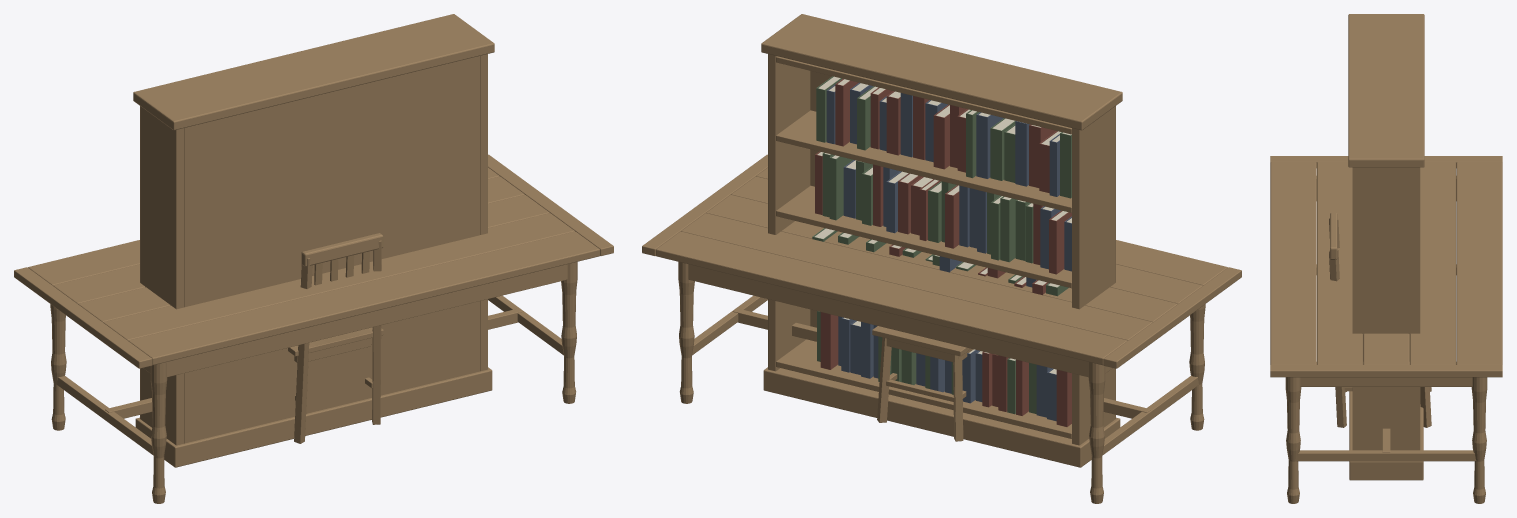
File: reading_furniture.glb
3 views of the same model, side by side, from view 1: azimuth 30°, elevation 25°; view 2: azimuth 150°, elevation 25°; view 3: azimuth 270°, elevation 25° (orthographic). The views are drawn at different scales.
Visible parts, largest first — view 1: Bookcase_Oak, ReadingTable_Oak, ReadingChair_Oak; view 2: Bookcase_Oak, ReadingTable_Oak, Bookcase_RedCloth, Bookcase_BlueCloth, Bookcase_GreenCloth, ReadingChair_Oak, Bookcase_Paper; view 3: ReadingTable_Oak, Bookcase_Oak, ReadingChair_Oak.
Part boxes in pixels (bbox=[...]): Bookcase_Oak: bbox=[133, 14, 494, 467]; ReadingTable_Oak: bbox=[14, 154, 613, 503]; ReadingChair_Oak: bbox=[288, 233, 383, 443]; Bookcase_Oak: bbox=[761, 14, 1122, 467]; ReadingTable_Oak: bbox=[642, 154, 1241, 503]; Bookcase_RedCloth: bbox=[815, 79, 1071, 426]; Bookcase_BlueCloth: bbox=[826, 82, 1071, 421]; Bookcase_GreenCloth: bbox=[812, 76, 1071, 414]; ReadingChair_Oak: bbox=[872, 326, 973, 441]; Bookcase_Paper: bbox=[814, 76, 1071, 374]; ReadingTable_Oak: bbox=[1270, 156, 1502, 503]; Bookcase_Oak: bbox=[1348, 14, 1424, 480]; ReadingChair_Oak: bbox=[1329, 213, 1431, 427].
Bounding box in the file's own units: 2.41 × 1.68 × 1.1.
